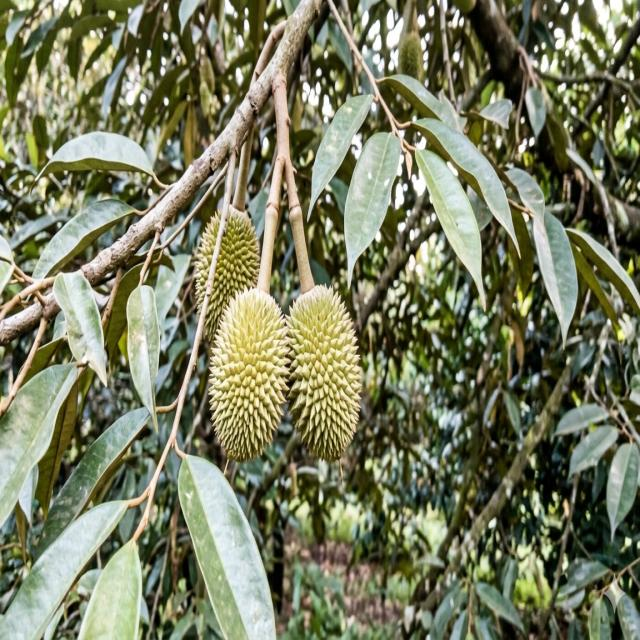immature: (206, 284, 292, 464), (284, 281, 362, 464), (193, 205, 260, 342), (398, 31, 424, 81)
